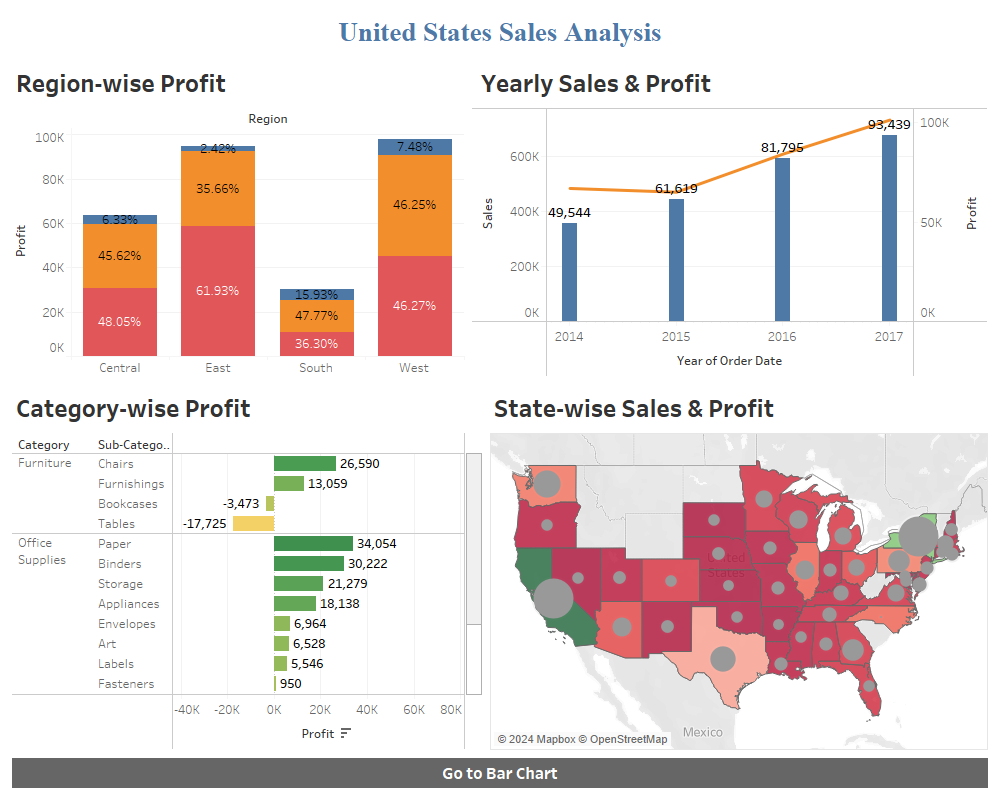

The dashboard page shown, as its layout file describes it:
{"tool":"tableau","page":{"name":"Dashboard 1","canvas":[1000,800],"ordinal":0},"visuals":[{"type":"title","box":[8,8,984,48]},{"type":"worksheet","title":"region wise profit","mark":"Automatic","rows":["Profit"],"cols":["Region"],"box":[8,56,460,325]},{"type":"worksheet","title":" Yearly Sales & Profit","mark":"Automatic","rows":["Sales","Profit"],"cols":["Order Date"],"box":[468,56,524,325]},{"type":"worksheet","title":"Category-wise Profit","mark":"Automatic","rows":["Category","Sub-Category"],"cols":["Profit"],"box":[8,381,478,373]},{"type":"worksheet","title":"State-wise Sales & Profit","mark":"Multipolygon","box":[486,381,506,373]},{"type":"dashboard-object","box":[8,754,984,38]}]}

Visuals, with their boxes in screenshot pixels (x1, y1, x2, y2), scaled from the page's 1000x800 canvas onto the 1000x800 screenshot:
title: box(8, 8, 992, 56)
"region wise profit" worksheet: box(8, 56, 468, 381)
" Yearly Sales & Profit" worksheet: box(468, 56, 992, 381)
"Category-wise Profit" worksheet: box(8, 381, 486, 754)
"State-wise Sales & Profit" worksheet (Multipolygon marks): box(486, 381, 992, 754)
dashboard-object: box(8, 754, 992, 792)
